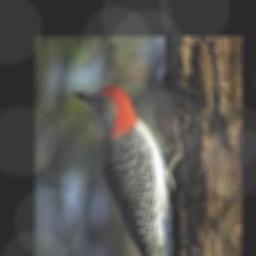Woodpecker: (73, 85, 178, 256)
